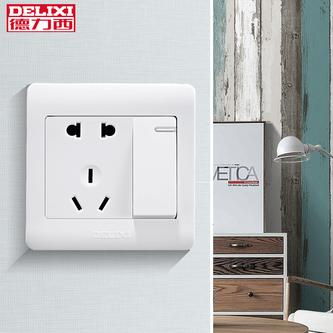switch: (133, 120, 173, 214)
